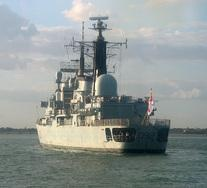warship: (33, 11, 171, 153)
